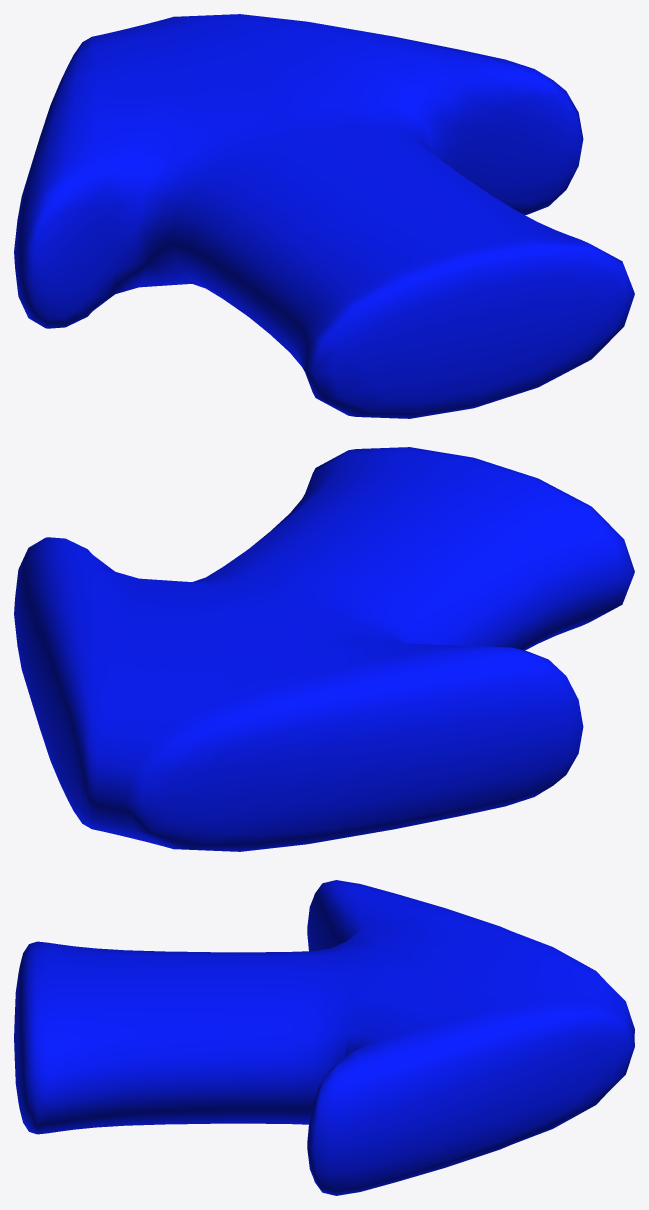
The model's file is Arrow.fbx.
3 views of the same model, one above another, from view 1: azimuth 30°, elevation 25°; view 2: azimuth 150°, elevation 25°; view 3: azimuth 270°, elevation 25° (orthographic). The views are drawn at different scales.
Parts seen in each view (by area): view 1: pCube1; view 2: pCube1; view 3: pCube1.
Boxes of the visible parts, x1,y1,x2,y2 form: pCube1: (14, 14, 634, 418); pCube1: (14, 447, 634, 851); pCube1: (14, 880, 634, 1195).
Size of the model in its own units: 8.84 by 2.45 by 10.14.
